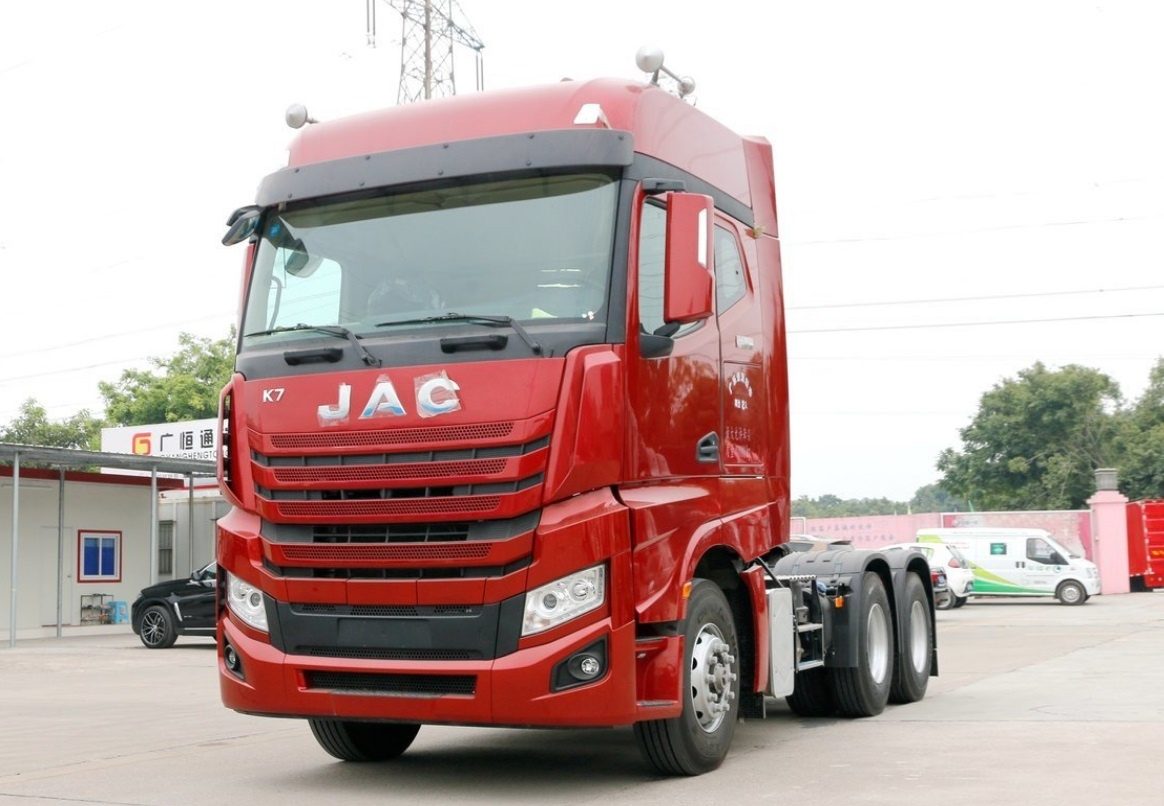heavy truck: (200, 60, 981, 791)
